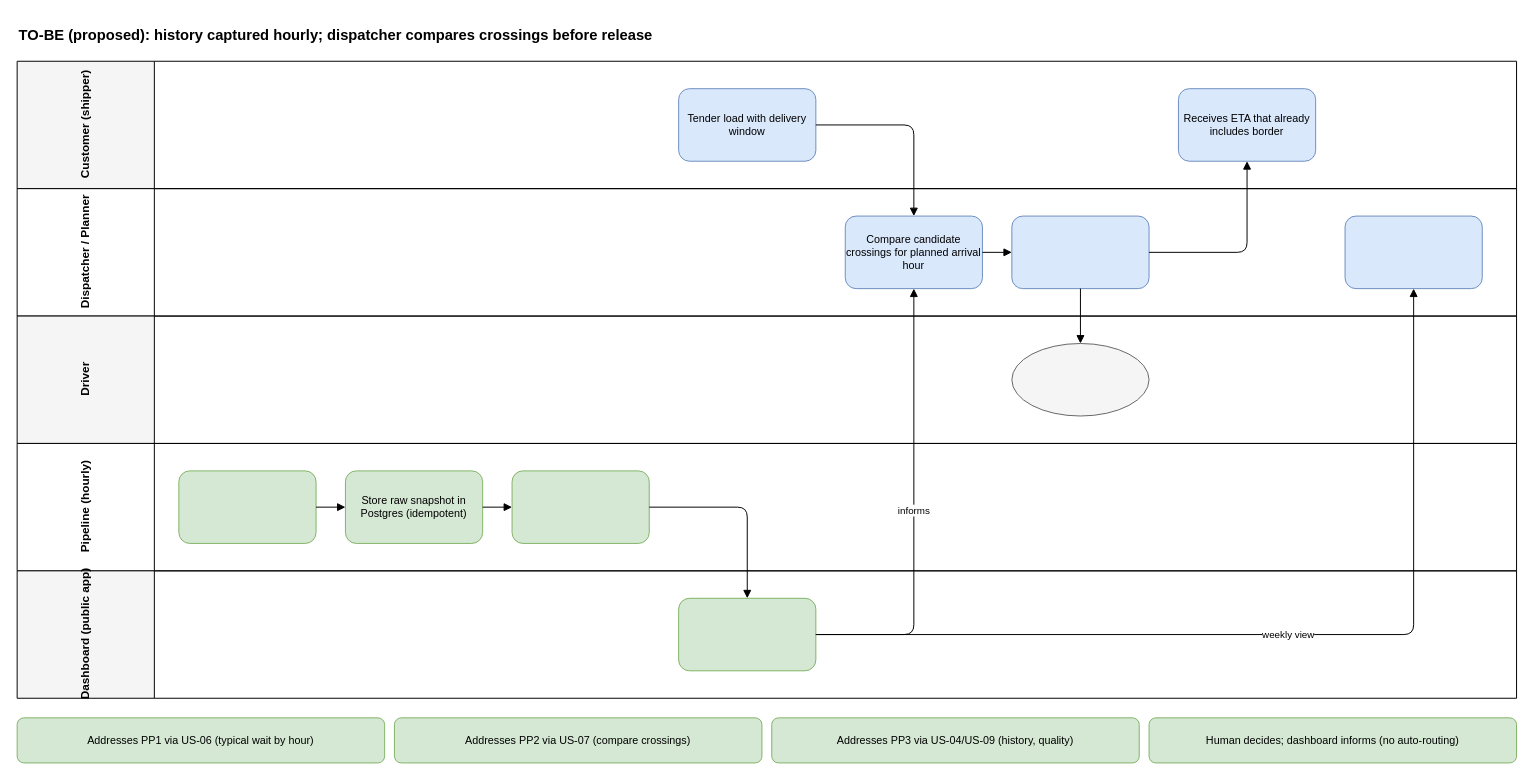
Some shapes in this 1534 by 780 pixel diagram are drawn without their labels. Here are the shapes that lost their labels. From the top down, the box of each, then its label:
(1011, 215, 1149, 289): Choose crossing; set ETA incl. border buffer
(1344, 215, 1482, 289): Weekly: review crossing reliability & FAST savings
(1011, 343, 1149, 416): Cross at chosen crossing
(178, 470, 316, 543): Hourly: fetch CBP commercial-lane snapshot
(511, 470, 649, 543): Transform: clean, flag stale/missing, hourly patterns
(678, 597, 816, 671): Current + typical wait by crossing & hour; freshness
